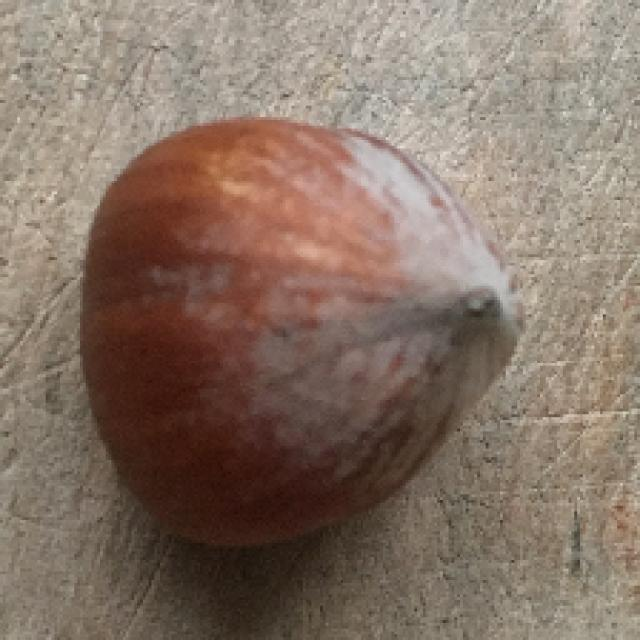QualityHazelnut: (74, 118, 523, 547)
